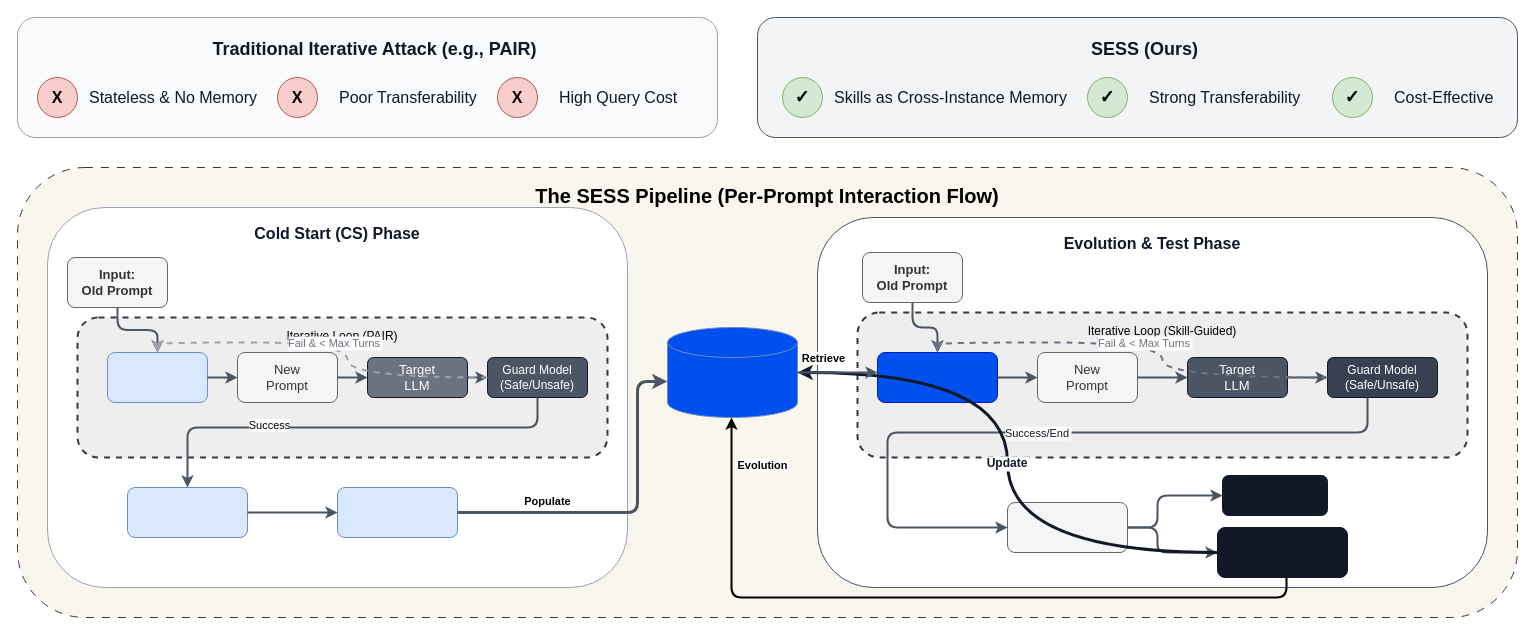
This 1535x635 diagram has some shape labels left out. Each missing label, with the centre of its shape:
"Dynamic Skill Library" belongs at (x=732, y=372).
"Extract Skills" belongs at (x=397, y=512).
"Feedback & Statistics" belongs at (x=1067, y=527).
"Final ASR" belongs at (x=1275, y=495).
"Skills-Augmented Rewrite" belongs at (x=937, y=377).
"Successful Trajectory" belongs at (x=187, y=512).
"Template Rewrite" belongs at (x=157, y=377).
"Update Skills （ Evo Phase Only ）" belongs at (x=1282, y=552).
